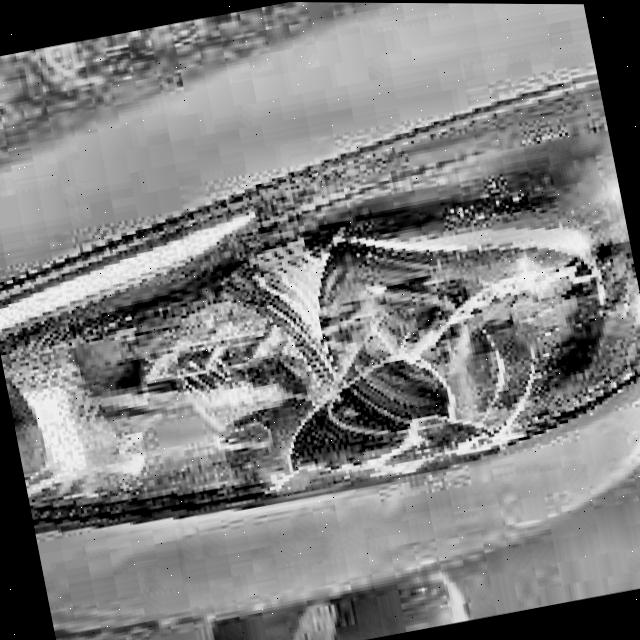head_lamp: (261, 327, 470, 502)
